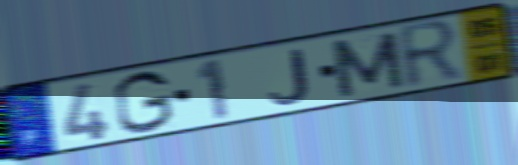1: (195, 55, 232, 123)
4: (60, 79, 113, 143)
G: (111, 68, 175, 137)
J: (267, 46, 313, 106)
M: (327, 29, 408, 100)
R: (394, 17, 466, 93)
